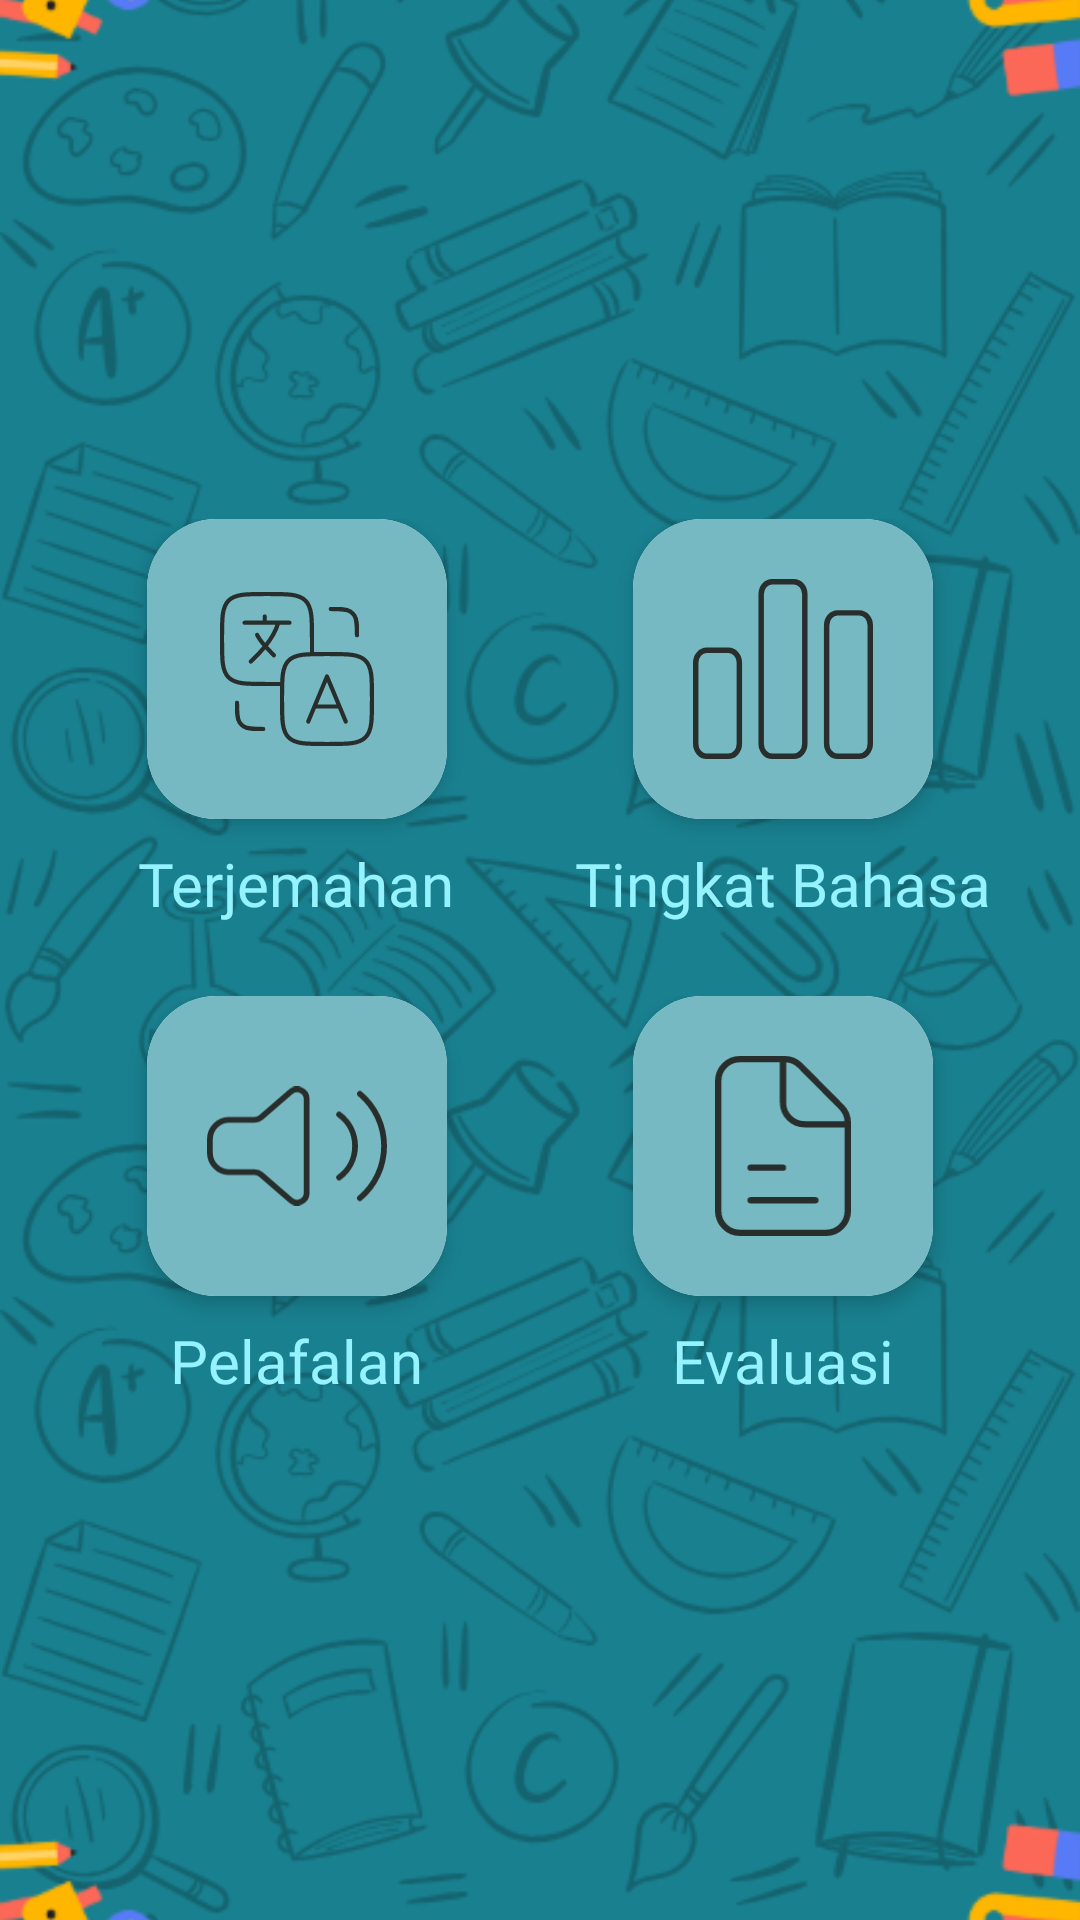

Icon bounding boxes for this 1080*1920 phone screenshot, format (x1, y1, x2, y2):
evalhome: (715, 1056, 851, 1236)
